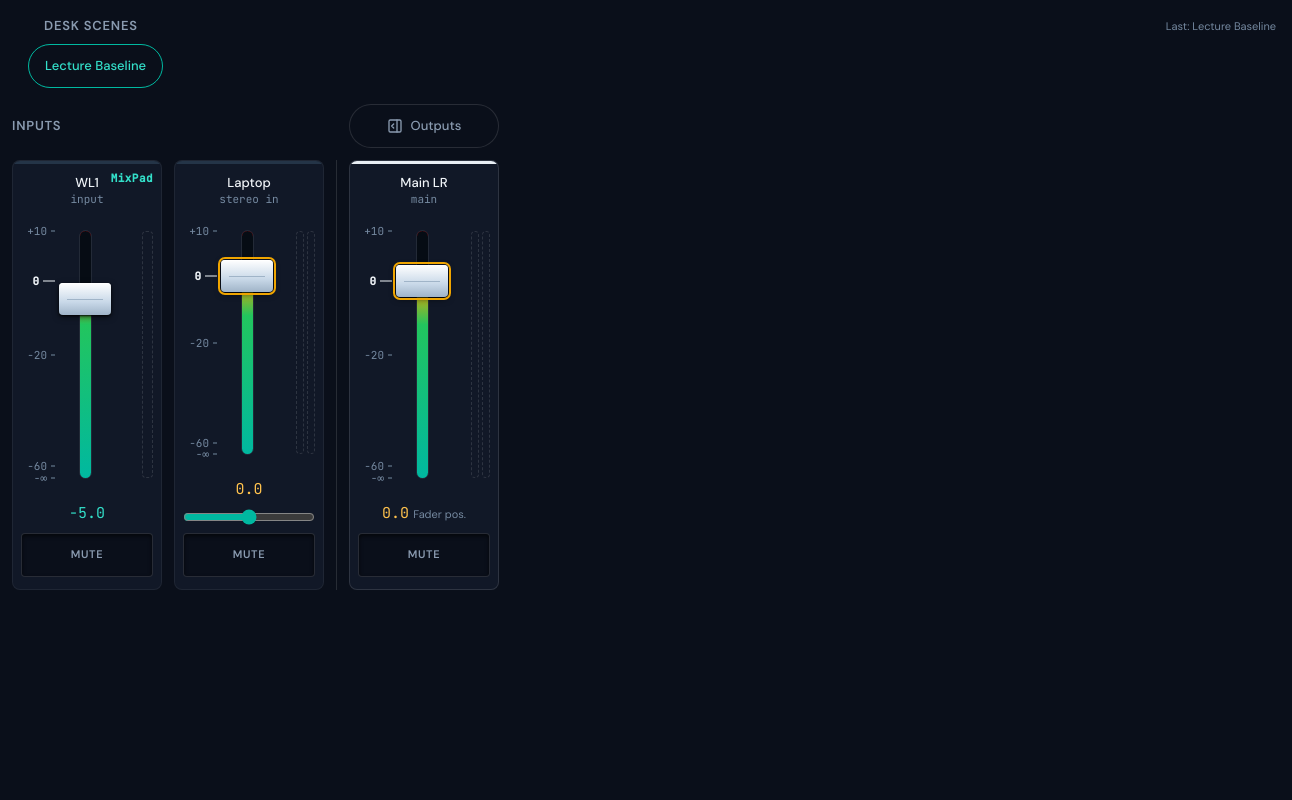
Test: MixerView — Main and the outputs drawer › the outputs drawer opens to reveal the outputs and closes again
The image size is (1292, 800).
Expected: the element with test id "mixer-main" is shown, [349,160,499,590]
Click the button "Outputs" at (424, 126), box [349,104,499,148]
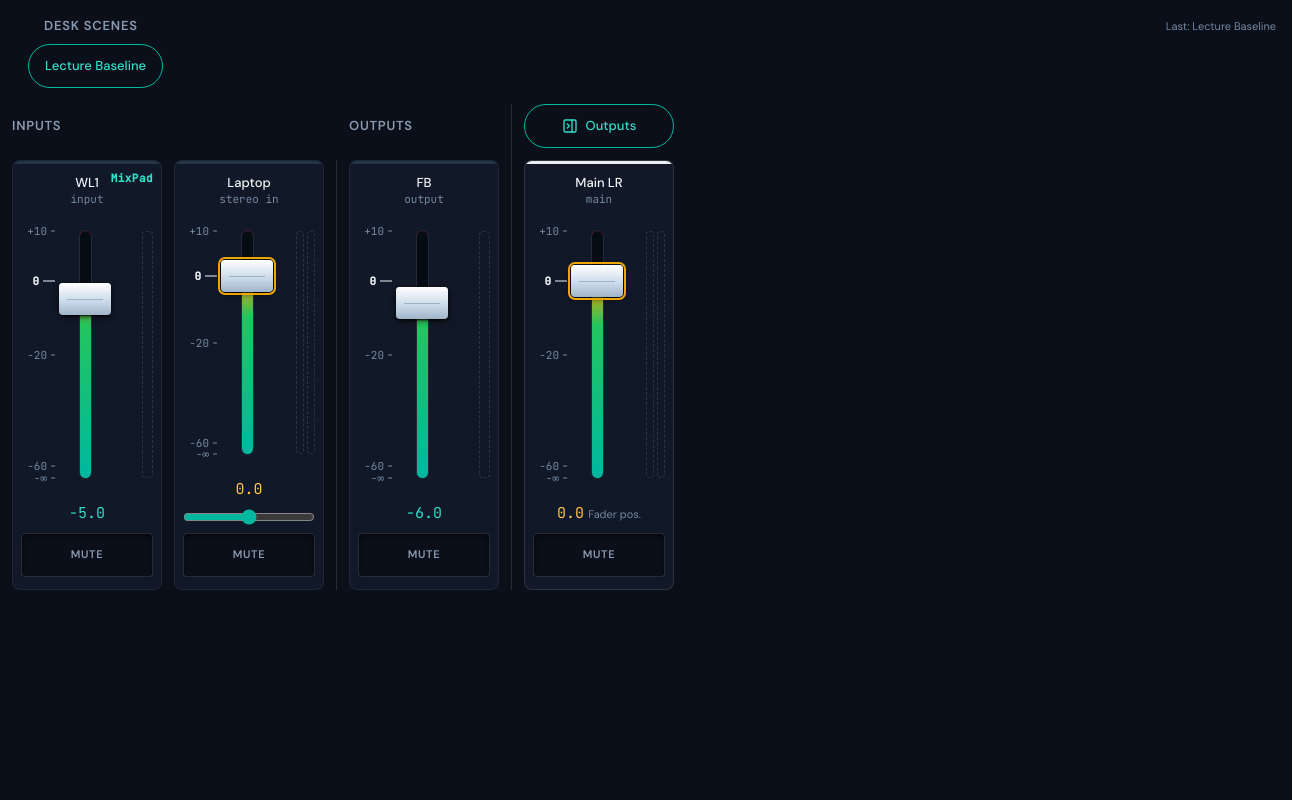
Expected: the button "Outputs" is expanded
Expected: the element with test id "mixer-output-2" is shown, [349,160,499,590]
Expected: the slider named "FB fader" is shown, [396,215,448,494]
Click the button "Outputs" at (599, 126), box [524,104,674,148]
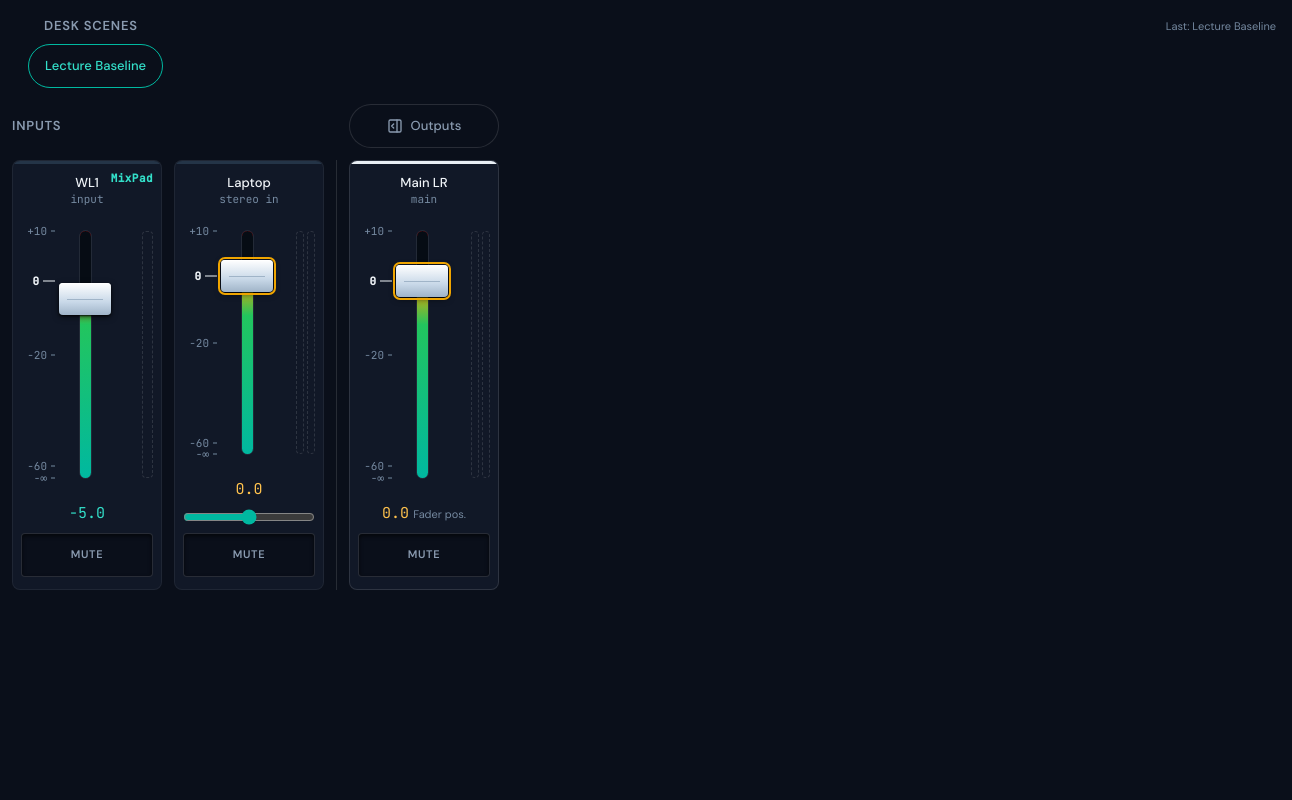
Expected: the button "Outputs" is collapsed, [349,104,499,148]
